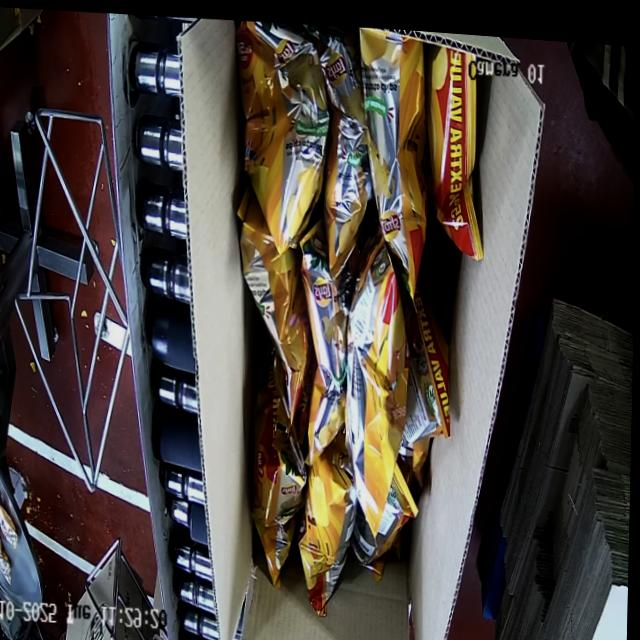FRENCH_CHEESE: (221, 17, 495, 640)
